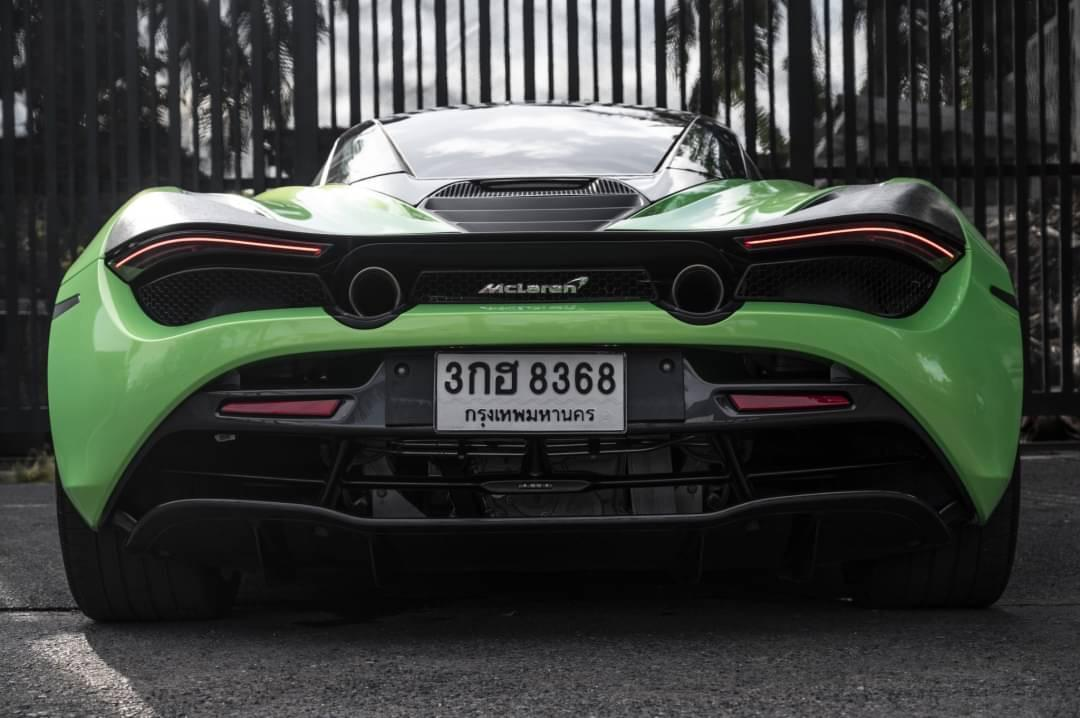license-plate: (433, 346, 630, 432)
